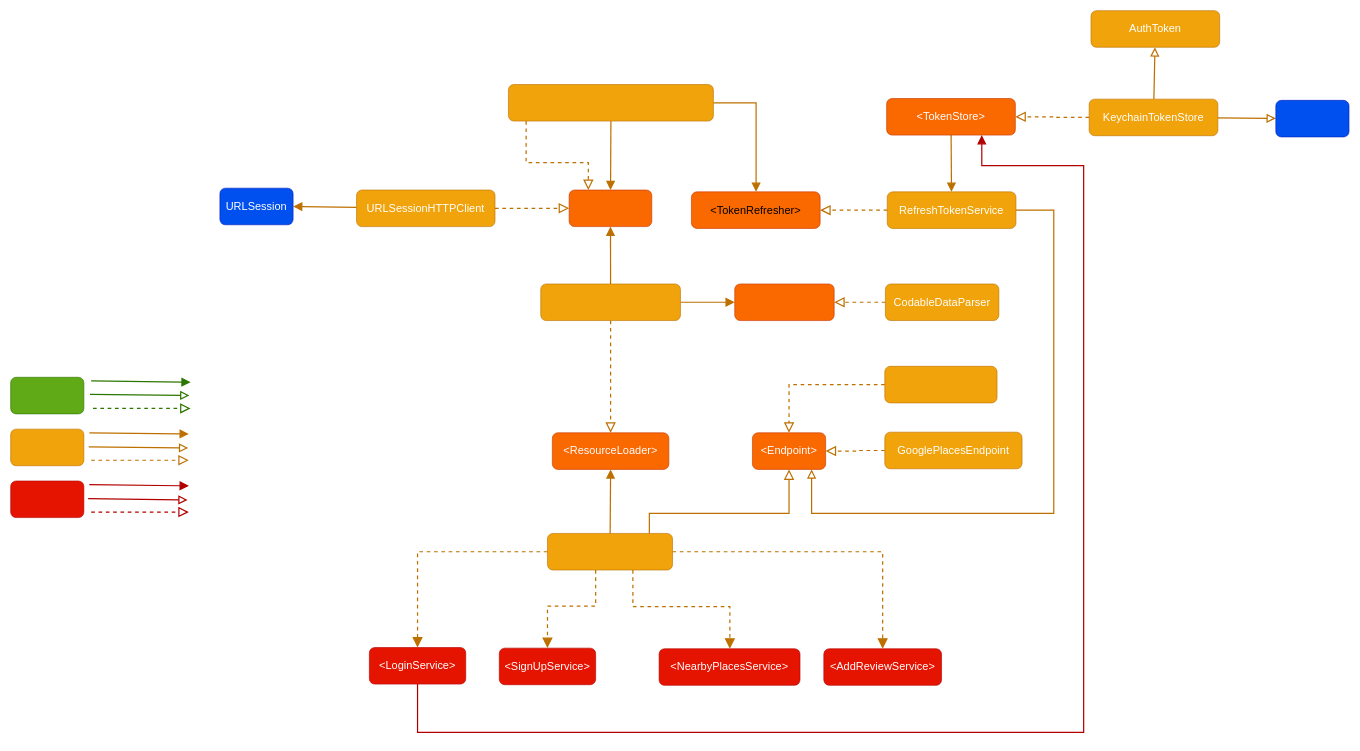
This 1360x751 diagram has some shape labels left out. The shapes that lost their labels are listed below. From the top down, each one's centre as x and y in pixels, then its label:
point (610, 102): AuthenticatedURLSessionHTTPClient
point (1312, 118): Keychain
point (610, 208): <HTTPClient>
point (610, 302): RemoteResourceLoader
point (784, 302): <DataParser>
point (940, 384): ServerEndpoint
point (610, 551): APIService
